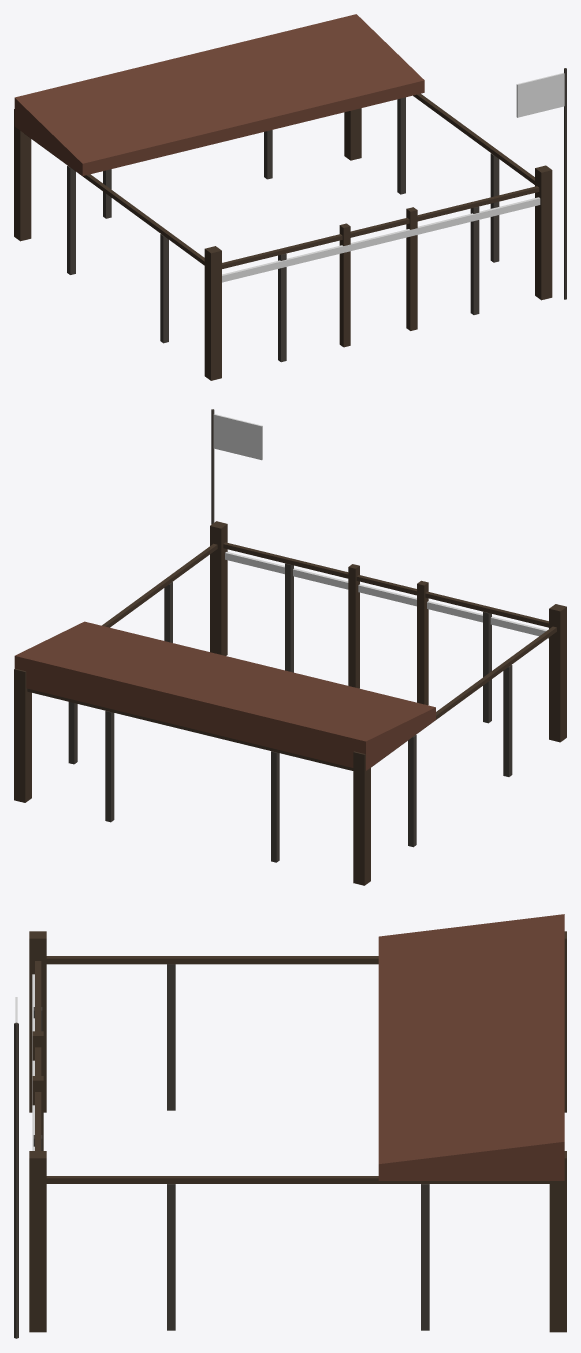
3 views of the same model, one above another, from view 1: azimuth 30°, elevation 25°; view 2: azimuth 150°, elevation 25°; view 3: azimuth 270°, elevation 25° (orthographic). The views are drawn at different scales.
Parts seen in each view (by area): view 1: raider_building_cage; view 2: raider_building_cage; view 3: raider_building_cage.
Boxes of the visible parts, x1=… form: raider_building_cage: x1=14, y1=14, x2=566, y2=380; raider_building_cage: x1=14, y1=409, x2=566, y2=885; raider_building_cage: x1=14, y1=914, x2=566, y2=1338.
Bounding box in the file's own units: 8.94 × 5.6 × 8.93.
